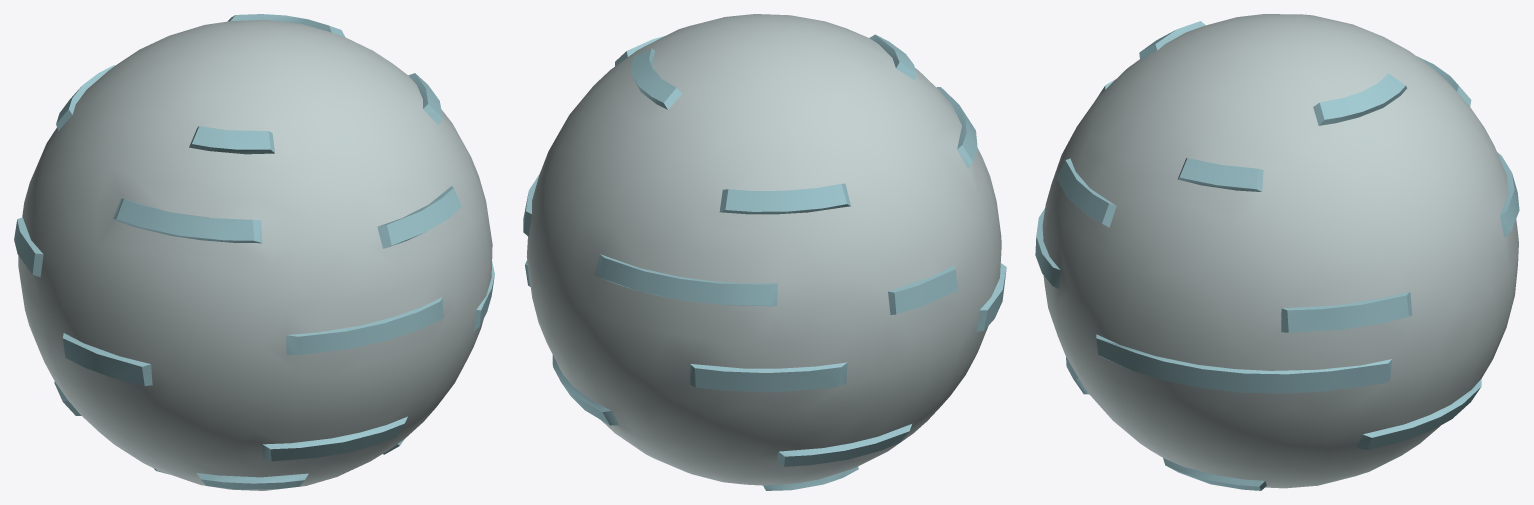
Rendered from ice.glb.
3 views of the same model, side by side, from view 1: azimuth 30°, elevation 25°; view 2: azimuth 150°, elevation 25°; view 3: azimuth 270°, elevation 25° (orthographic).
Visible parts, largest first — view 1: Ice; view 2: Ice; view 3: Ice.
Boxes of the visible parts, x1,y1,x2,y2 form: Ice: [14, 14, 494, 490]; Ice: [523, 14, 1006, 490]; Ice: [1035, 14, 1519, 490].
Size of the model in its own units: 3.82 by 3.75 by 3.81.
1 material, 1 textured.
